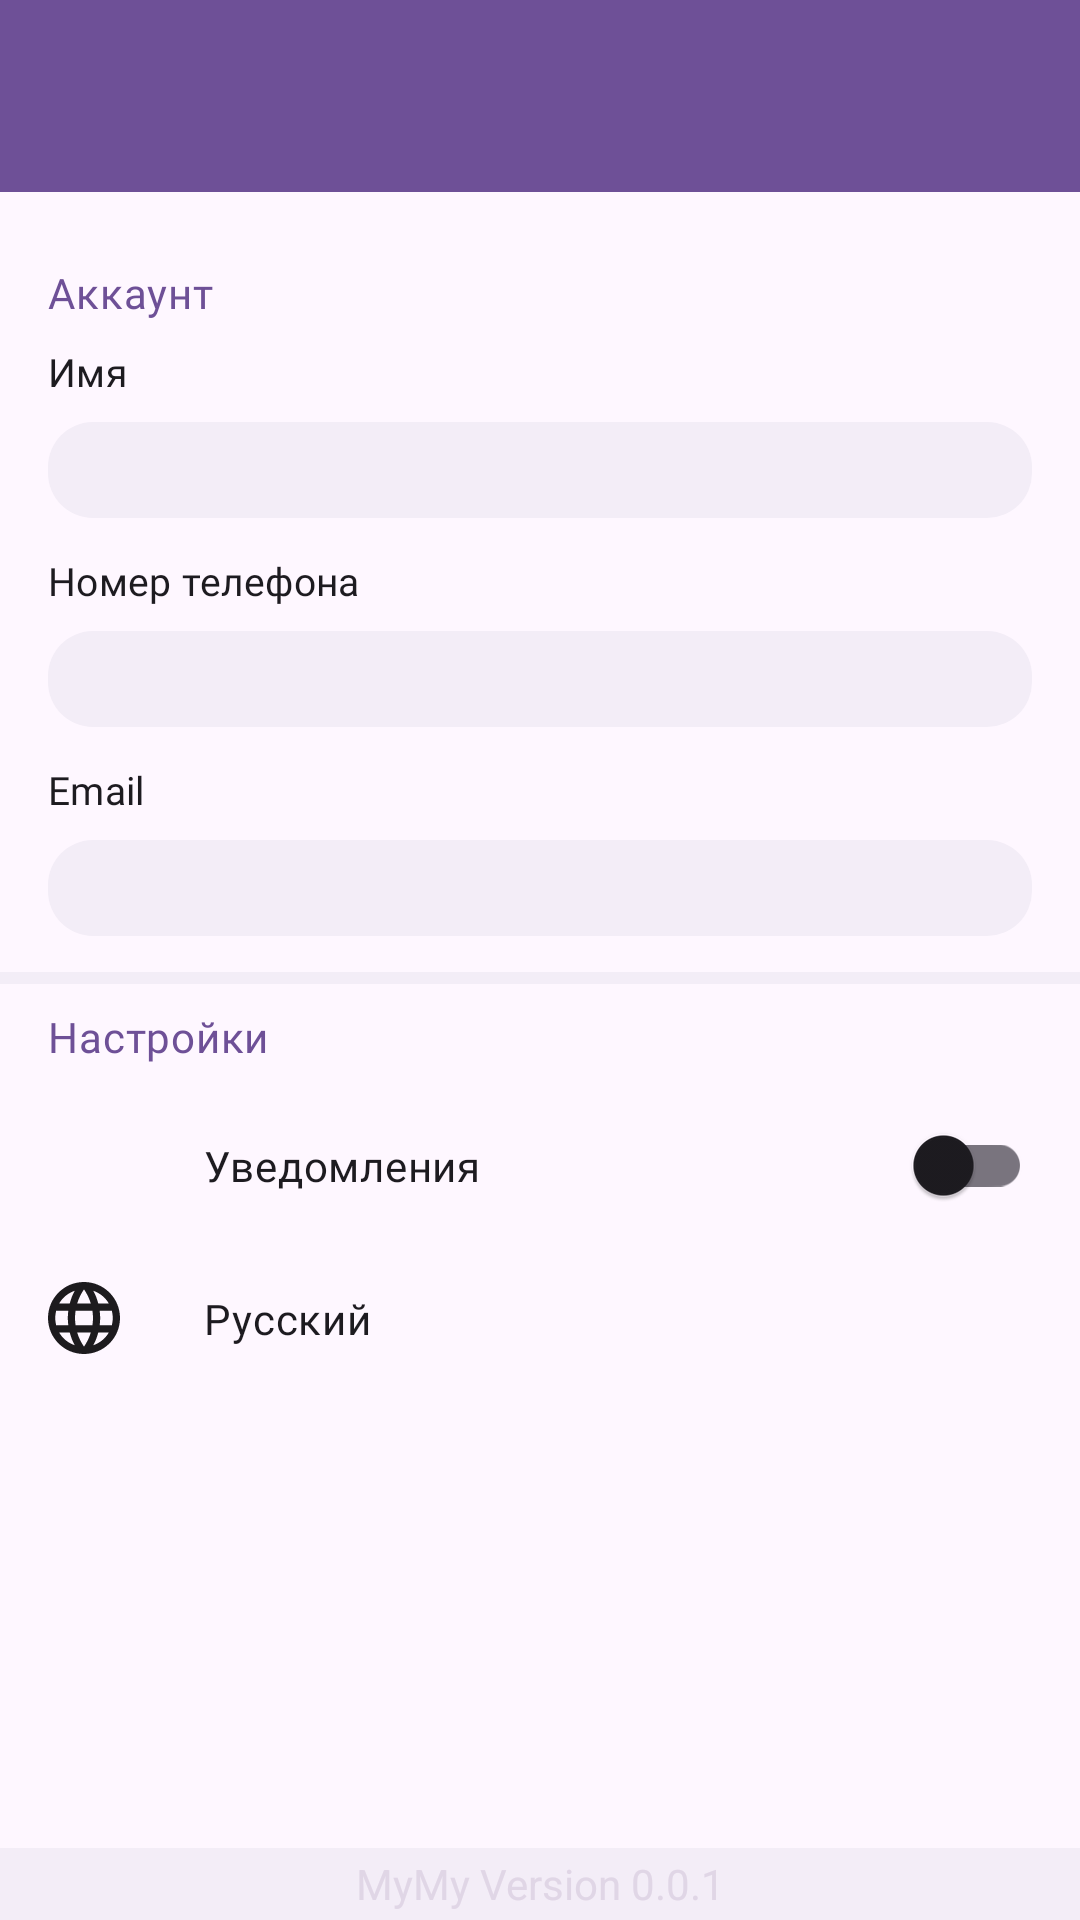

Icons on this 1080*1920 Android screen, each with its box as {"left": x1, "top": y1, "right": x2, "bottom": y2}:
planet: {"left": 48, "top": 1282, "right": 120, "bottom": 1354}
